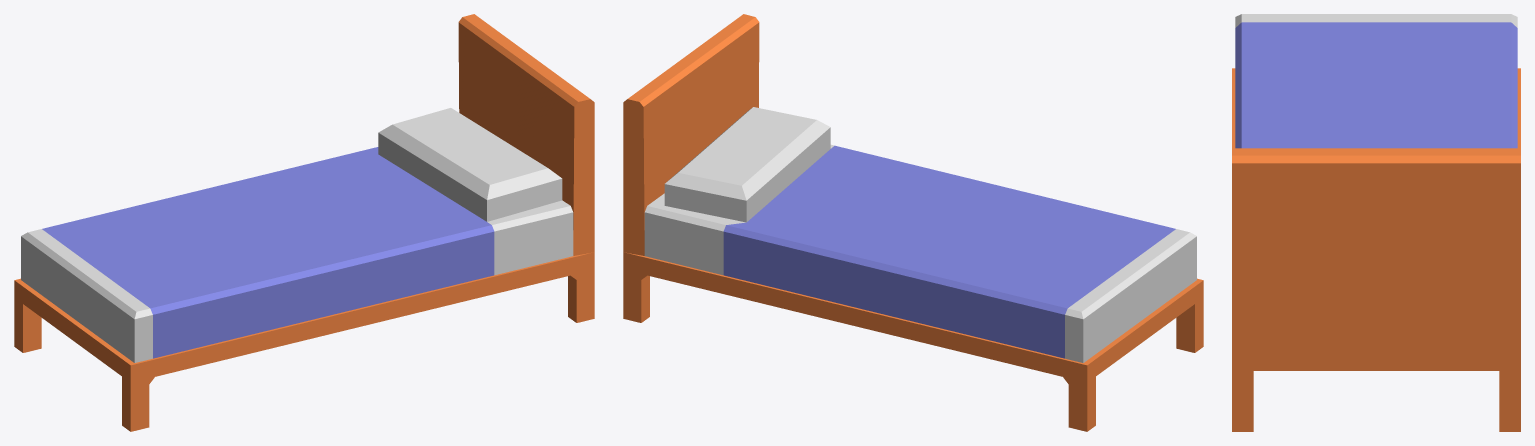
File: Y_bed.glb
3 views of the same model, side by side, from view 1: azimuth 30°, elevation 25°; view 2: azimuth 150°, elevation 25°; view 3: azimuth 270°, elevation 25° (orthographic). The views are drawn at different scales.
Visible parts, largest first — view 1: Cube; view 2: Cube; view 3: Cube.
Boxes of the visible parts, x1=… form: Cube: x1=14, y1=14, x2=594, y2=431; Cube: x1=623, y1=14, x2=1203, y2=431; Cube: x1=1232, y1=14, x2=1520, y2=431.
Bounding box in the file's own units: 4.71 × 2.14 × 2.05.
